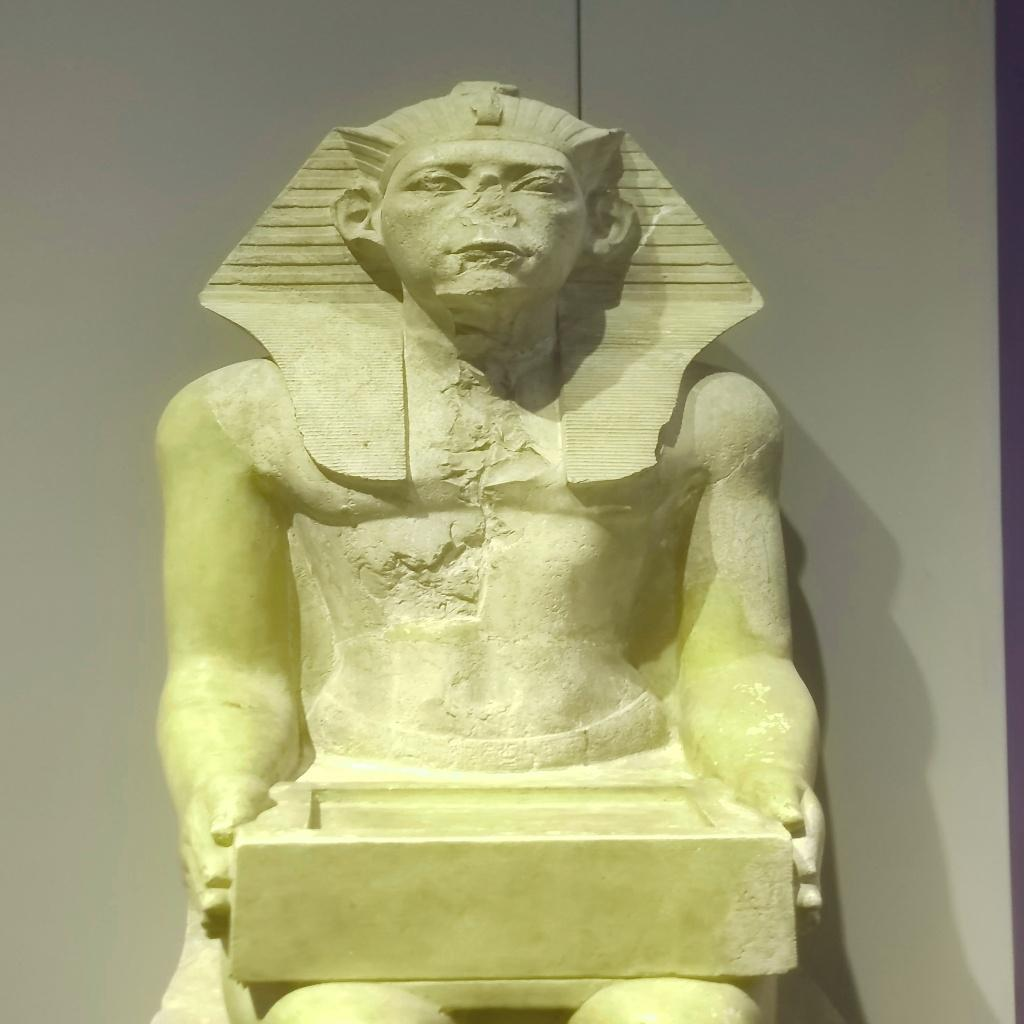Amenhotep III with Plate: (154, 65, 822, 1024)
